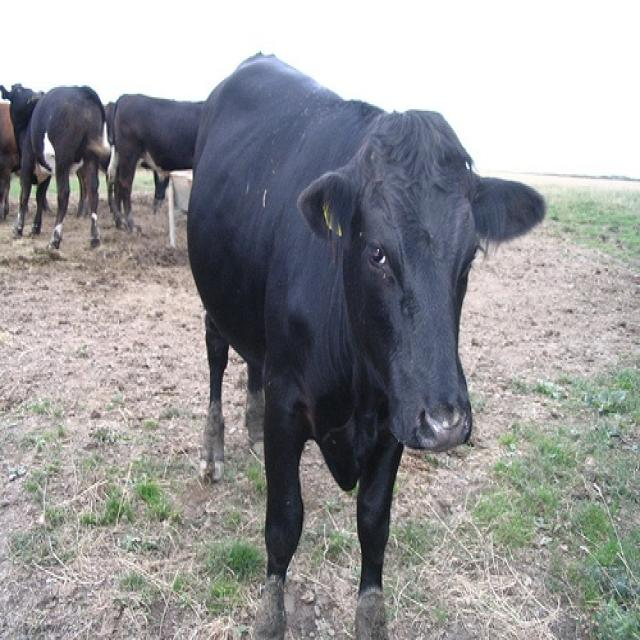cow: (182, 49, 550, 638), (9, 84, 104, 242), (106, 90, 204, 236)
